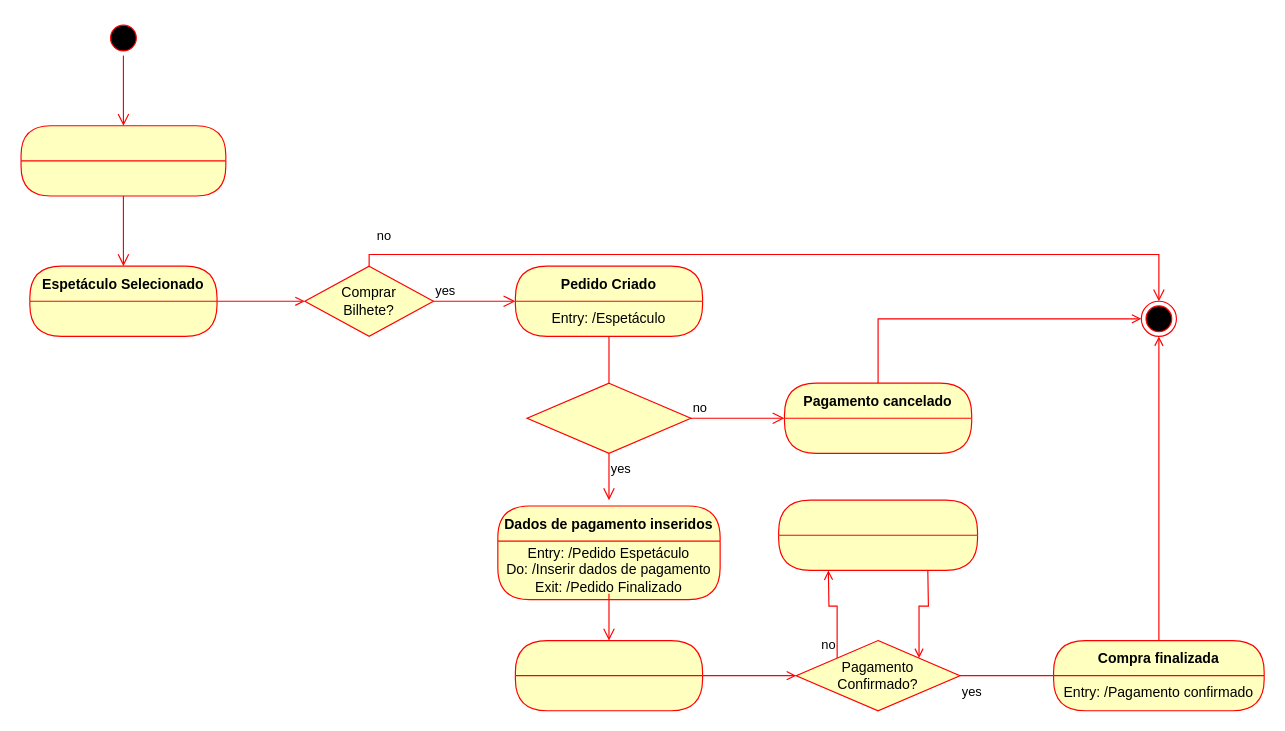
Some shapes in this 1285 by 731 pixel diagram are drawn without their labels. The shapes that lost their labels are listed below. From the top down, each one's centre as x and y in pixels, then its label:
At point (123, 160): "Cliente seleciona espetáculo".
At point (608, 417): "Bilhete Disponível?".
At point (877, 534): "Aguardando confirmação".
At point (608, 675): "Pagamento Realizado".
